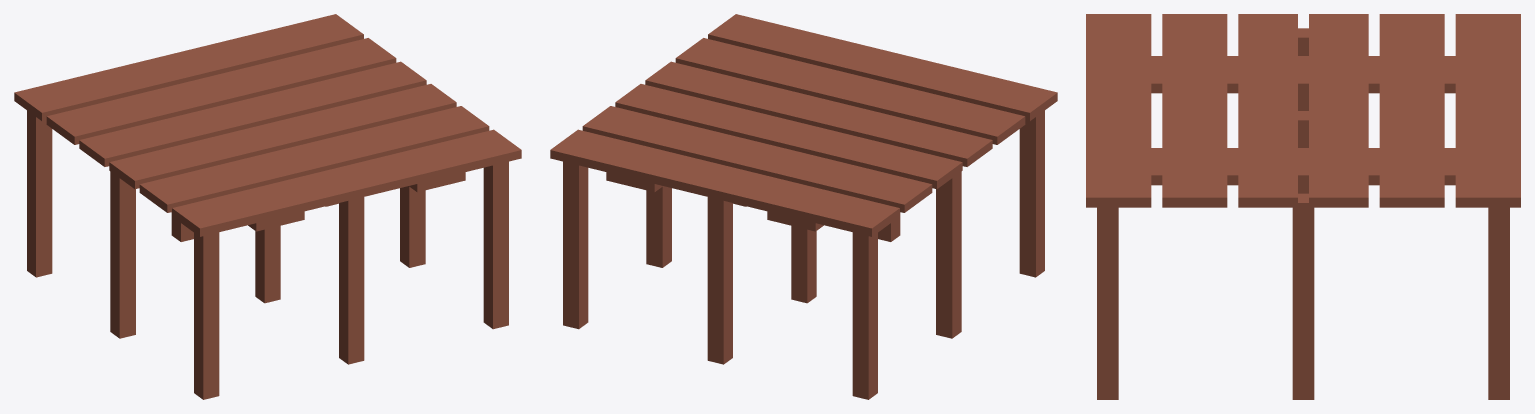
Rendered from scaffold_medium 1.fbx.
3 views of the same model, side by side, from view 1: azimuth 30°, elevation 25°; view 2: azimuth 150°, elevation 25°; view 3: azimuth 270°, elevation 25° (orthographic). The views are drawn at different scales.
Visible parts, largest first — view 1: scaffold_medium; view 2: scaffold_medium; view 3: scaffold_medium.
Boxes of the visible parts, left/top/right/bottom form: scaffold_medium: left=14, top=14, right=521, bottom=399; scaffold_medium: left=550, top=14, right=1057, bottom=399; scaffold_medium: left=1086, top=14, right=1520, bottom=399.
Bounding box in the file's own units: 400 × 210 × 400.
